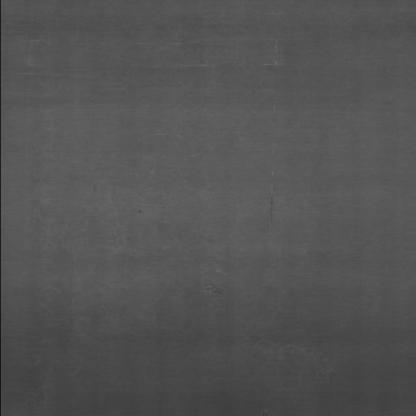silk_spot: (170, 282, 347, 382)
